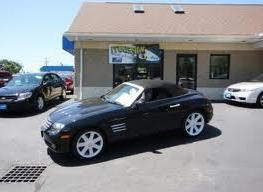Car: (38, 75, 224, 180), (2, 69, 67, 124), (218, 73, 263, 110)
